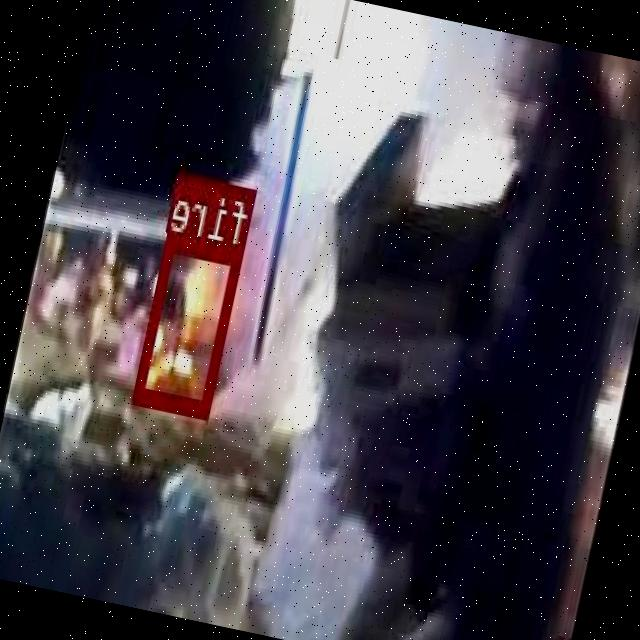fire: (134, 232, 246, 416)
